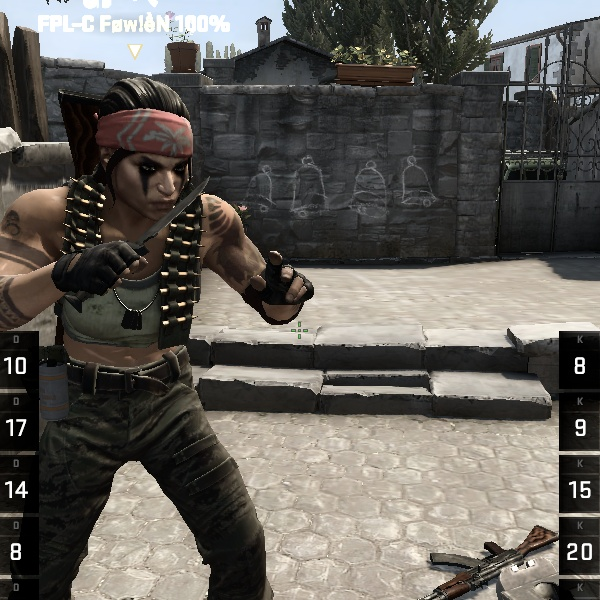t_body: (0, 59, 335, 600)
